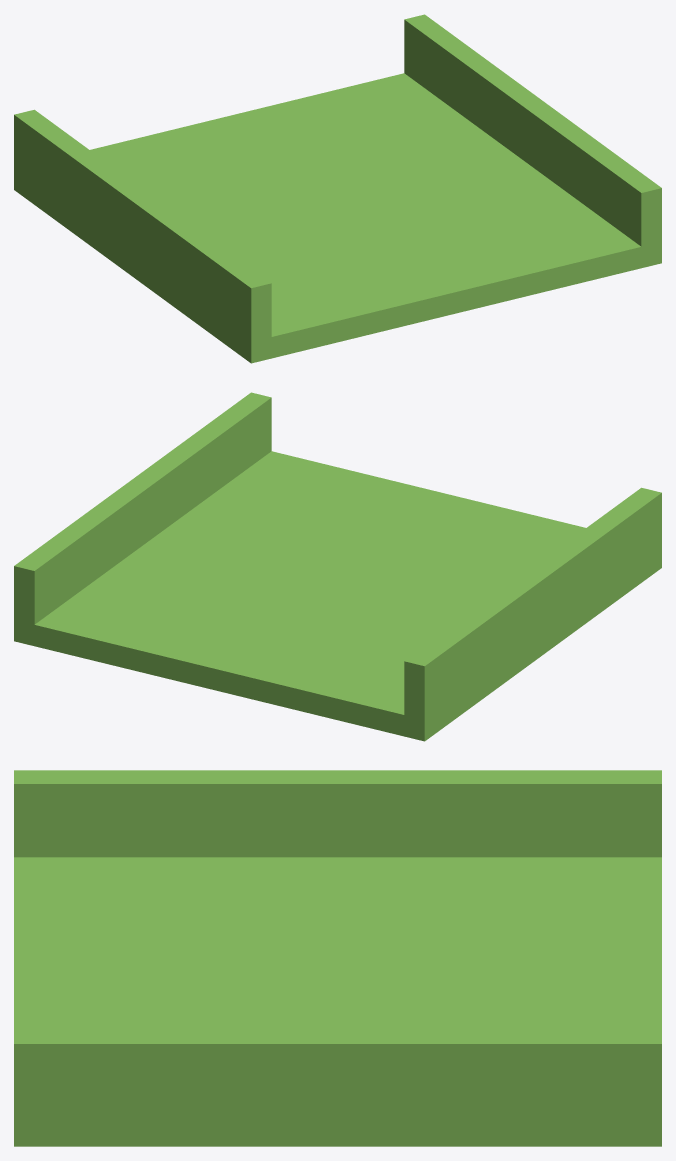
The model's file is LimeRoof_2Edges.glb.
3 renders of one model, top to bottom at view 1: azimuth 30°, elevation 25°; view 2: azimuth 150°, elevation 25°; view 3: azimuth 270°, elevation 25°, orthographic. The views are drawn at different scales.
Visible parts, largest first — view 1: roof_flat_2Edges_lime; view 2: roof_flat_2Edges_lime; view 3: roof_flat_2Edges_lime.
Part boxes in pixels (<box>): roof_flat_2Edges_lime: <box>14,14,661,363</box>; roof_flat_2Edges_lime: <box>14,392,661,741</box>; roof_flat_2Edges_lime: <box>14,770,661,1146</box>.
Size of what is drawn, in the model's own units: 4 by 0.7 by 4.
1 material, 1 textured.
